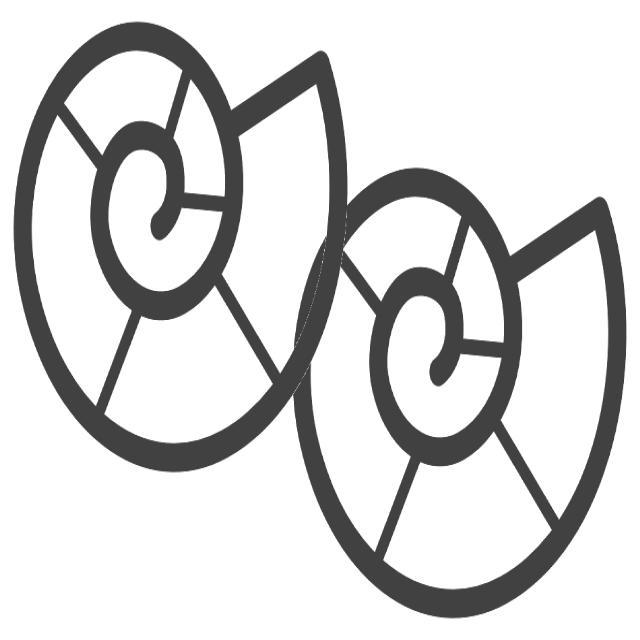fossil: (7, 11, 360, 491), (283, 153, 632, 630)
